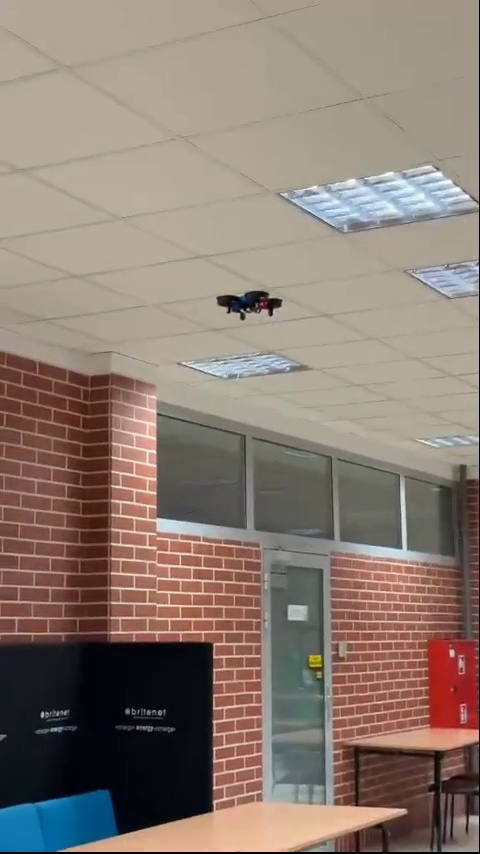drone: (217, 287, 287, 321)
